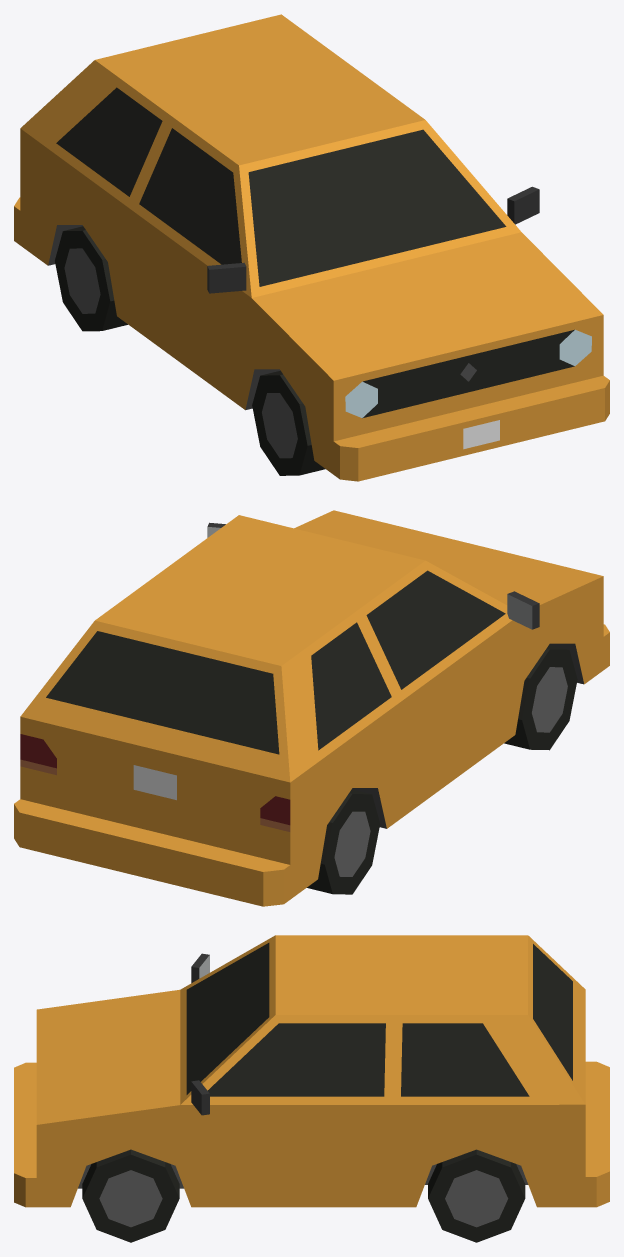
The model's file is Veh_Coupe_02_Yellow.glb.
3 views of the same model, one above another, from view 1: azimuth 30°, elevation 25°; view 2: azimuth 150°, elevation 25°; view 3: azimuth 270°, elevation 25° (orthographic). The views are drawn at different scales.
Visible parts, largest first — view 1: Coupe_02_Yellow, Wheel_RR, Wheel_FR; view 2: Coupe_02_Yellow, Wheel_RR, Wheel_FR; view 3: Coupe_02_Yellow, Wheel_FL, Wheel_RL.
Part boxes in pixels (x1,y1,x2,y2): Coupe_02_Yellow: (14,14,609,481); Wheel_RR: (55,226,127,331); Wheel_FR: (252,370,325,475); Coupe_02_Yellow: (14,510,609,906); Wheel_RR: (307,789,380,894); Wheel_FR: (504,645,577,750); Coupe_02_Yellow: (14,935,609,1207); Wheel_FL: (82,1149,179,1242); Wheel_RL: (428,1149,525,1242).
Size of the model in its own units: 1.12 by 0.78 by 2.01.
Materials: 1 (1 with a texture image).
